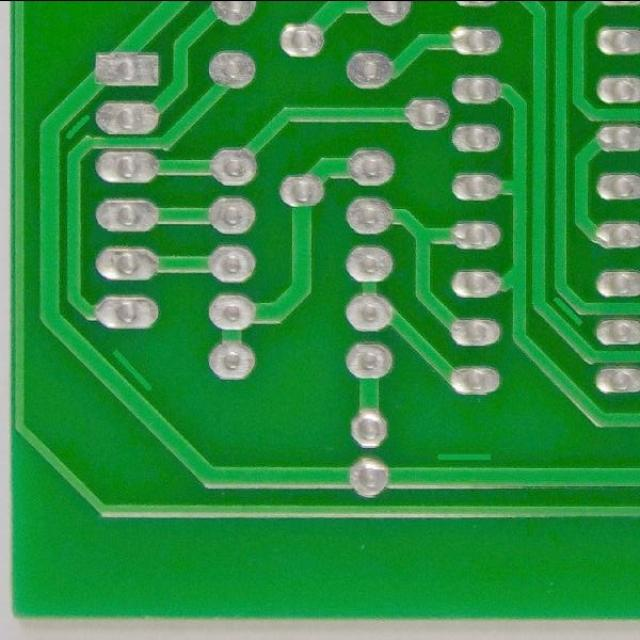Spurious_Cooper: (104, 339, 162, 399), (548, 290, 589, 331), (59, 107, 97, 144), (433, 447, 497, 465)
